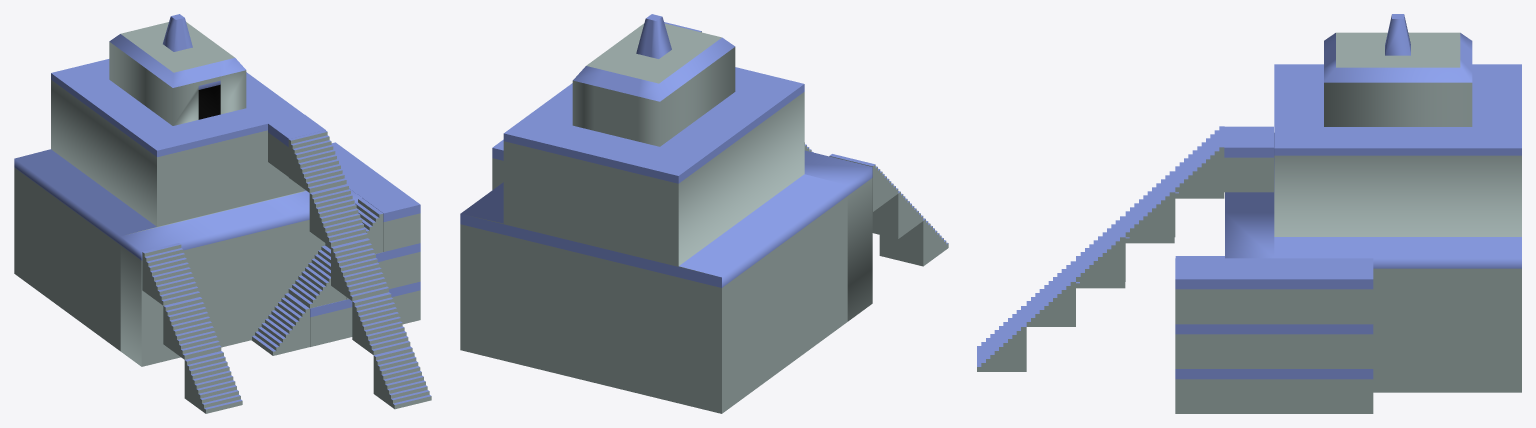
Rendered from level 4.fbx.
3 views of the same model, side by side, from view 1: azimuth 30°, elevation 25°; view 2: azimuth 150°, elevation 25°; view 3: azimuth 270°, elevation 25° (orthographic). The views are drawn at different scales.
Visible parts, largest first — view 1: Cube.001, Cube.004, Cube.008, Cube, Cube.002, Cube.009, Cube.006; view 2: Cube.001, Cube.008, Cube; view 3: Cube.001, Cube, Cube.004, Cube.009, Cube.008.
Boxes of the visible parts, x1=… form: Cube.001: x1=14, y1=14, x2=361, y2=366; Cube.004: x1=288, y1=130, x2=431, y2=409; Cube.008: x1=142, y1=243, x2=242, y2=413; Cube: x1=331, y1=142, x2=420, y2=324; Cube.002: x1=251, y1=198, x2=383, y2=355; Cube.009: x1=268, y1=114, x2=325, y2=176; Cube.006: x1=310, y1=299, x2=346, y2=346; Cube.001: x1=460, y1=14, x2=872, y2=413; Cube.008: x1=829, y1=154, x2=948, y2=266; Cube: x1=492, y1=139, x2=503, y2=189; Cube.001: x1=1225, y1=14, x2=1521, y2=392; Cube: x1=1175, y1=258, x2=1373, y2=413; Cube.004: x1=977, y1=126, x2=1224, y2=371; Cube.009: x1=1224, y1=126, x2=1273, y2=192; Cube.008: x1=1076, y1=192, x2=1224, y2=288.
Size of the model in its own units: 2798 by 2796 by 4398.
